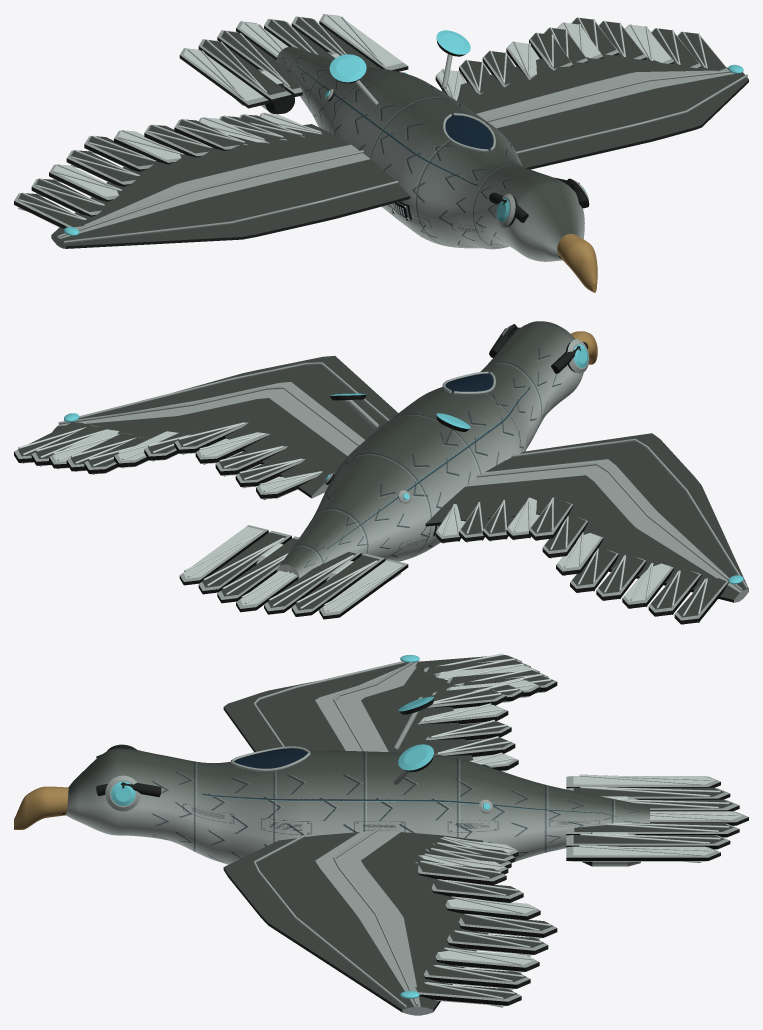
Rendered from ship.glb.
The picture shows the model from 3 angles, top to bottom: view 1: azimuth 30°, elevation 25°; view 2: azimuth 150°, elevation 25°; view 3: azimuth 270°, elevation 25°; orthographic projection. The views are drawn at different scales.
Parts seen in each view (by area): view 1: osprey_hull; view 2: osprey_hull; view 3: osprey_hull.
Part boxes in pixels (x1,y1,x2,y2): osprey_hull: [14, 14, 748, 292]; osprey_hull: [14, 321, 748, 624]; osprey_hull: [14, 653, 748, 1015].
Bounding box in the file's own units: 68 × 14.37 × 60.96.
Materials: 1 (1 with a texture image).
